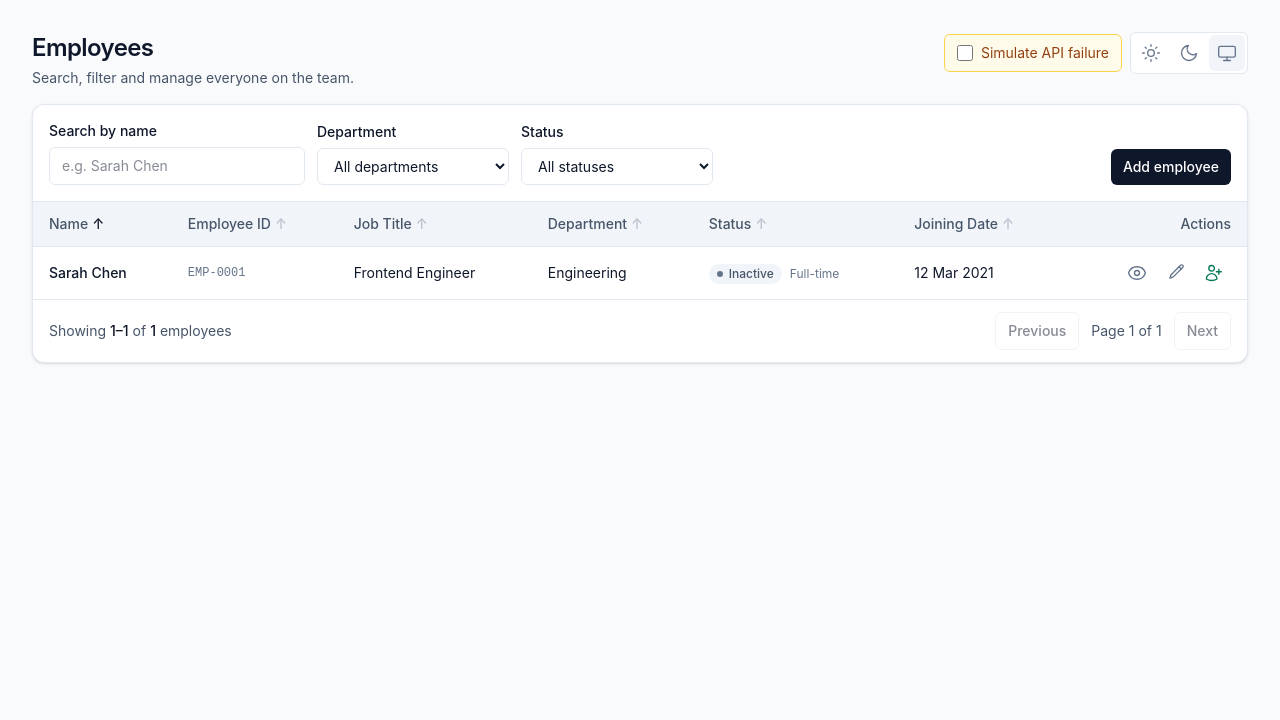
Test: reactivating an employee › offers Reactivate instead of Deactivate, and restores them
The width and height of the screenshot is (1280, 720).
Expected: the table is shown, [33,202,1247,299]
Click the button named "Reactivate Sarah Chen".
click(1213, 273)  # box [1195,255,1231,291]
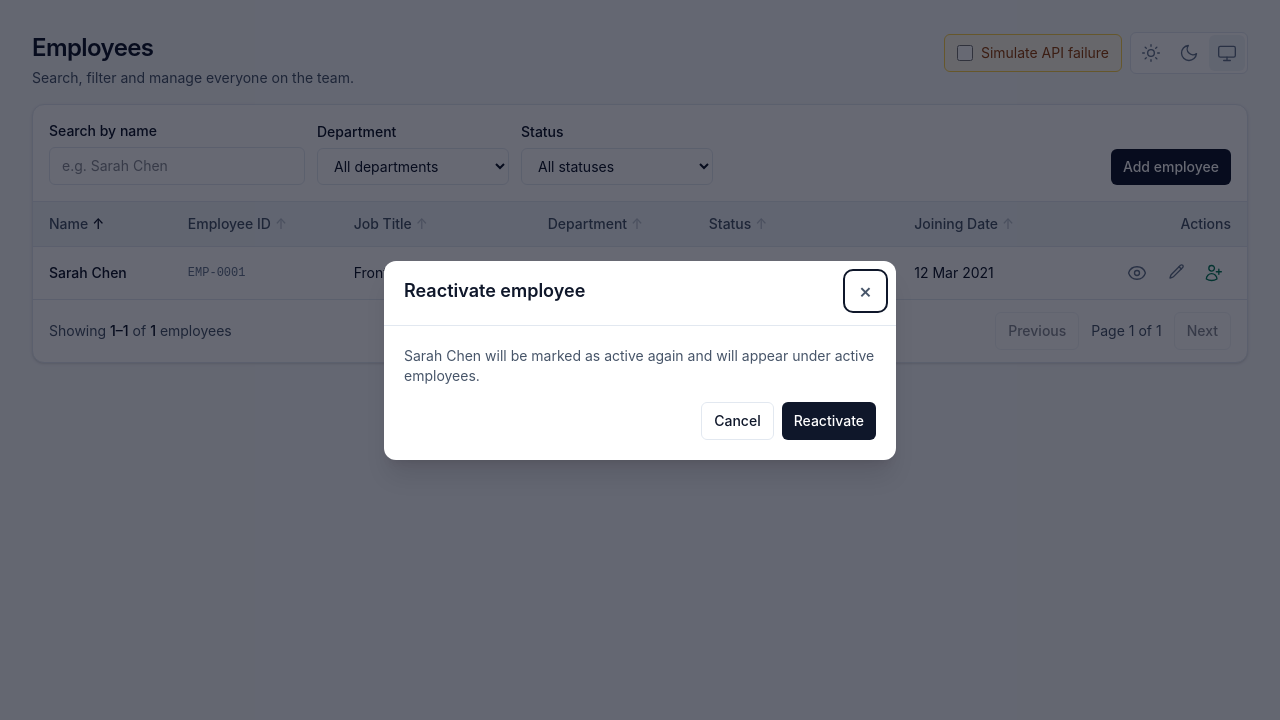
Expected: the text "will be marked as active again" is shown, [404,346,874,384]
Click the button "Reactivate".
click(829, 420)  # box [782,402,876,440]
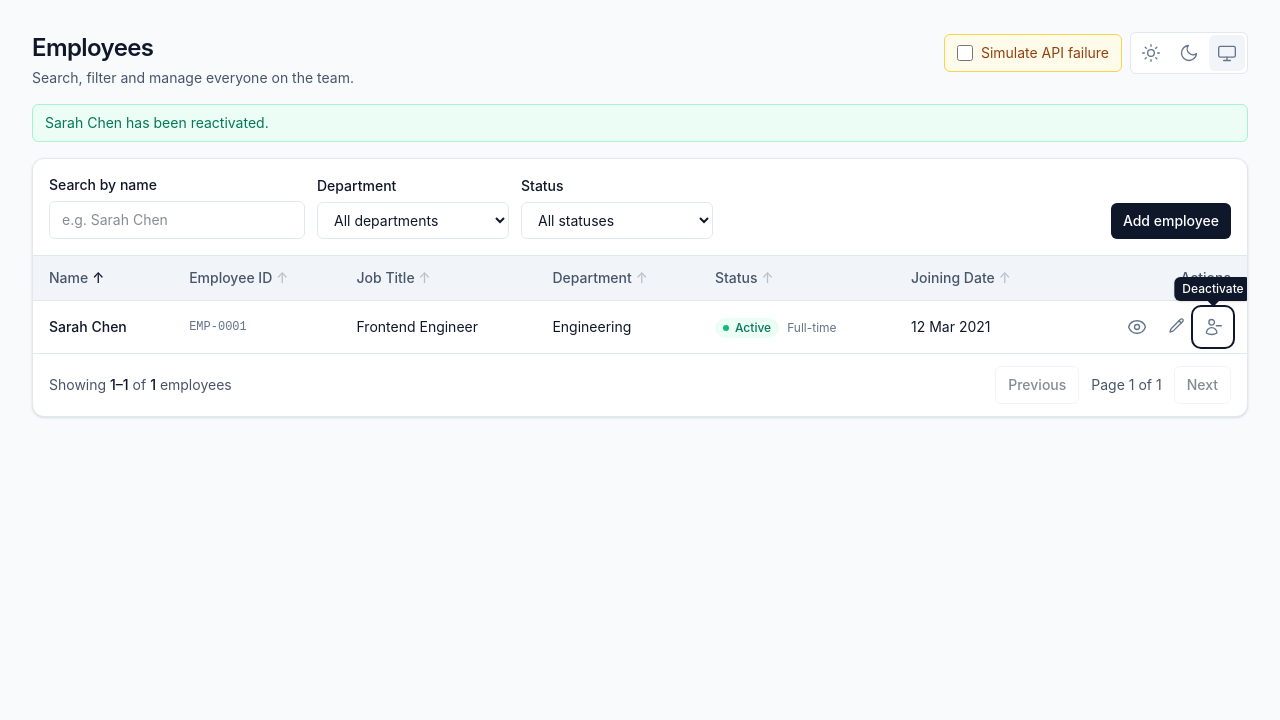
Expected: the text "Active" is shown, [715,318,779,338]
Expected: the message reads "Sarah Chen has been reactivated.", [45,114,269,131]
